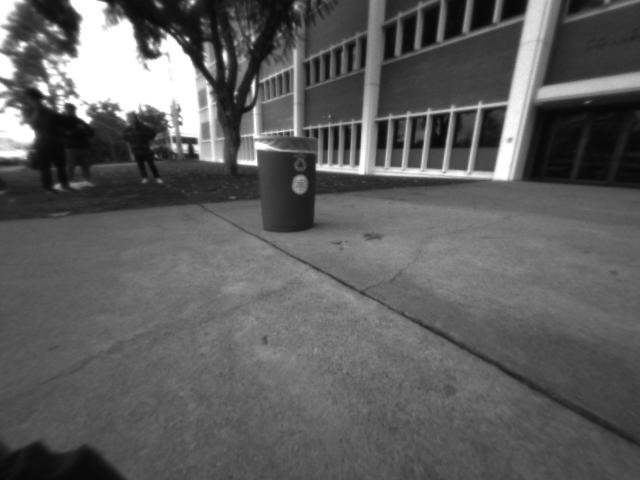trashcan_open: (252, 133, 321, 235)
